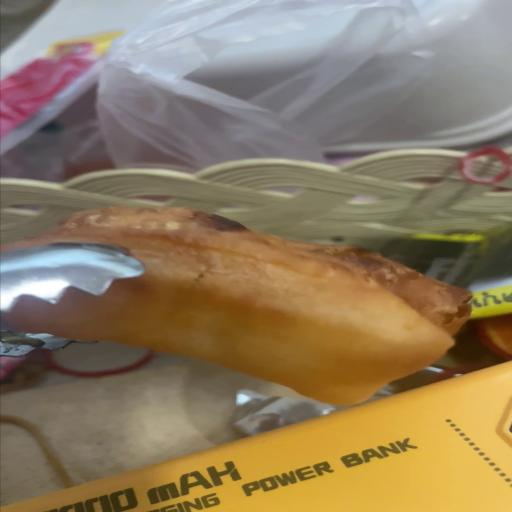street_golden_defect: (2, 205, 476, 404)
